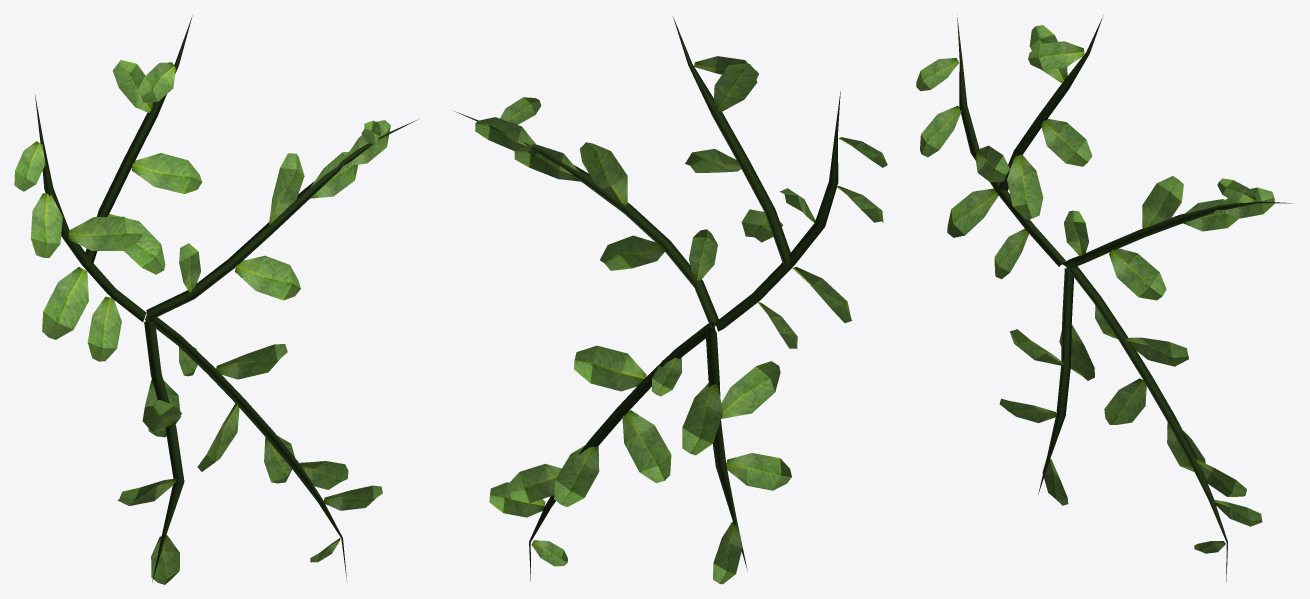
The model's file is polygonum_03.obj.
3 renders of one model, left to right at view 1: azimuth 30°, elevation 25°; view 2: azimuth 150°, elevation 25°; view 3: azimuth 330°, elevation 25°, orthographic. The views are drawn at different scales.
Visible parts, largest first — view 1: polygonum.001; view 2: polygonum.001; view 3: polygonum.001.
Boxes of the visible parts, <box> form: polygonum.001: <box>14,15,417,584</box>; polygonum.001: <box>454,17,887,584</box>; polygonum.001: <box>916,15,1292,581</box>.
Bounding box in the file's own units: 0.3006 × 0.4127 × 0.0525.
